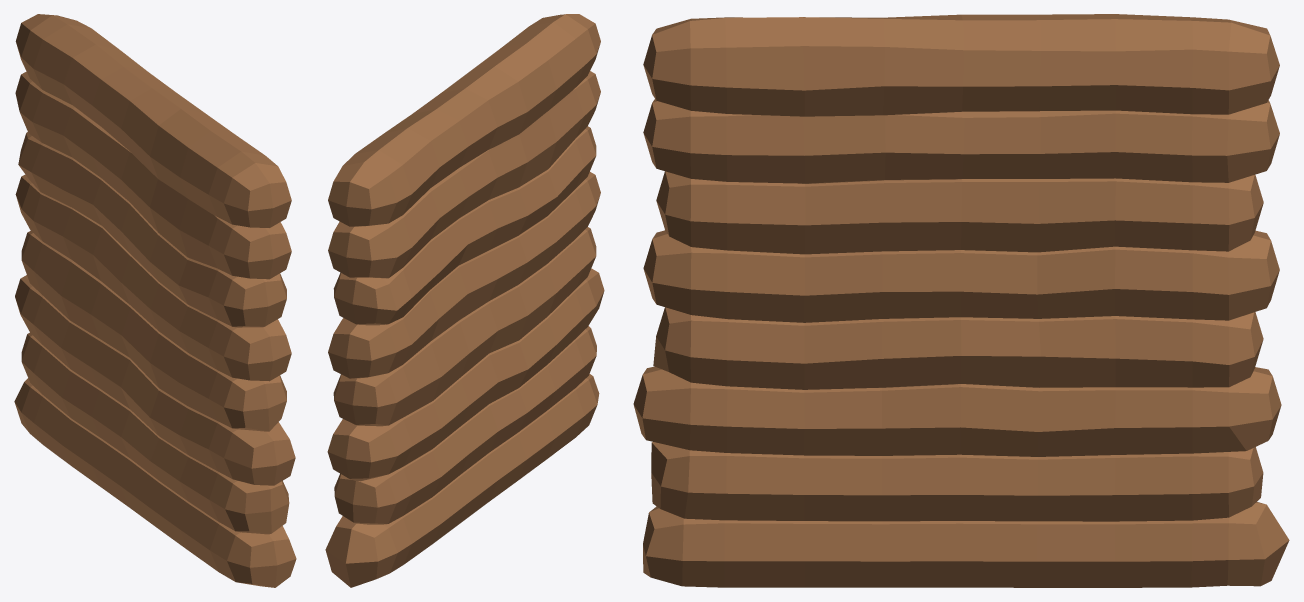
Rendered from woodenWall1.1.fbx.
The picture shows the model from 3 angles, left to right: view 1: azimuth 30°, elevation 25°; view 2: azimuth 150°, elevation 25°; view 3: azimuth 270°, elevation 25°; orthographic projection. The views are drawn at different scales.
Visible parts, largest first — view 1: Plane.005; view 2: Plane.005; view 3: Plane.005.
Part boxes in pixels (left/top/right/bottom): Plane.005: left=14, top=14, right=296, bottom=587; Plane.005: left=325, top=14, right=604, bottom=587; Plane.005: left=633, top=14, right=1289, bottom=587.
Bounding box in the file's own units: 70.28 × 417 × 438.
